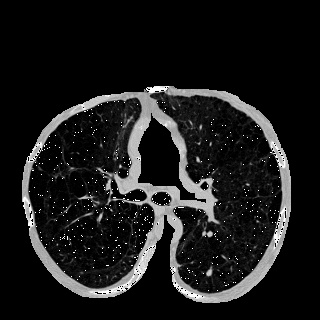PN: (205, 268, 213, 276)
